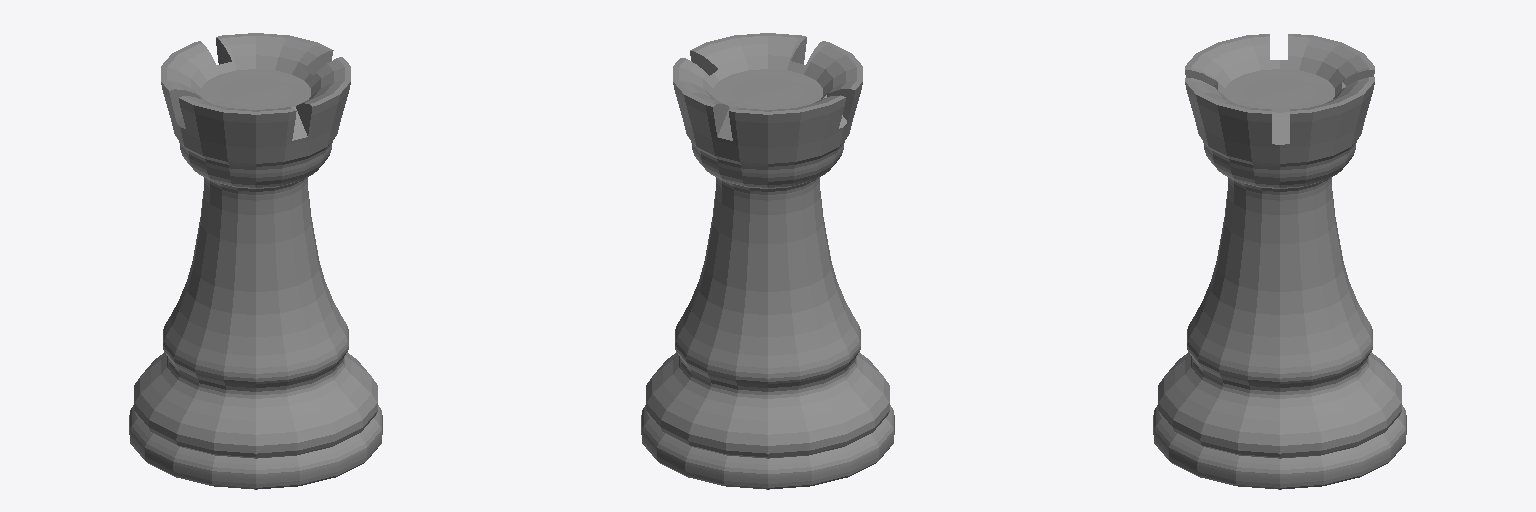
Rendered from preto-torre.obj.
3 renders of one model, left to right at view 1: azimuth 30°, elevation 25°; view 2: azimuth 150°, elevation 25°; view 3: azimuth 270°, elevation 25°, orthographic.
Visible parts, largest first — view 1: TORRE02; view 2: TORRE02; view 3: TORRE02.
Boxes of the visible parts, <box> form: TORRE02: <box>129,33,382,489</box>; TORRE02: <box>641,33,894,489</box>; TORRE02: <box>1153,34,1406,489</box>.
Bounding box in the file's own units: 166 × 260 × 163.